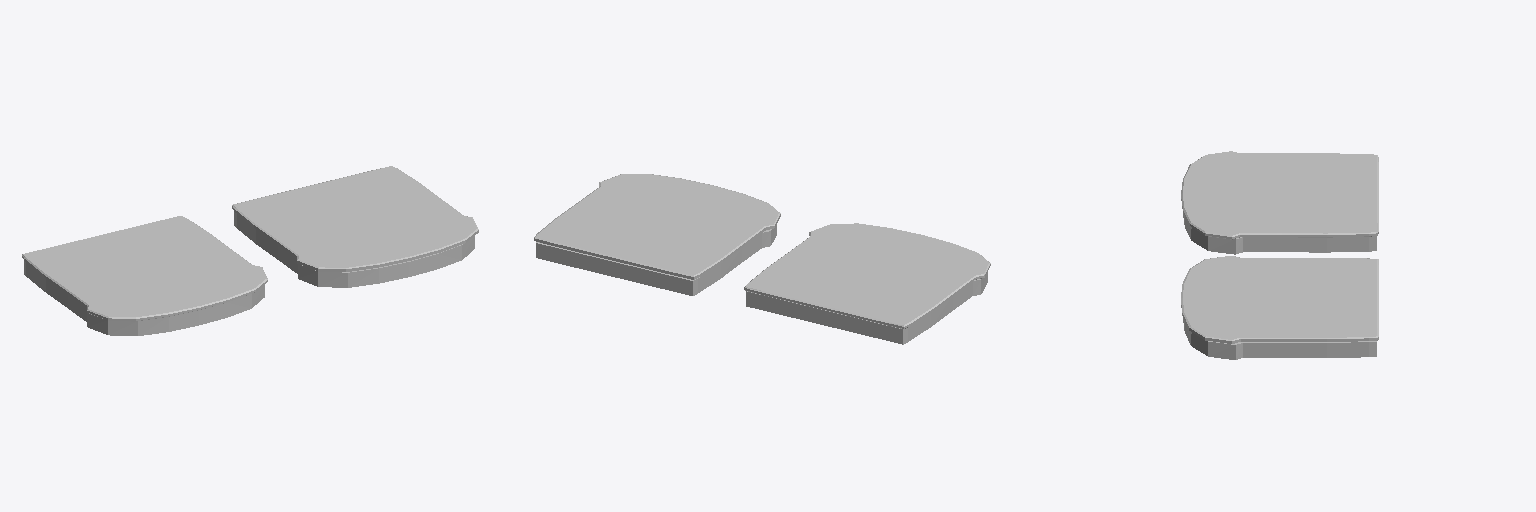
The model's file is Panes separados.obj.
3 renders of one model, left to right at view 1: azimuth 30°, elevation 25°; view 2: azimuth 150°, elevation 25°; view 3: azimuth 270°, elevation 25°, orthographic.
Parts seen in each view (by area): view 1: peanut_butter_and_jelly:Mesh polySurface4, polySurface3 peanut_butter_and_jelly:Mesh, peanut_butter_and_jelly:Mesh polySurface1, peanut_butter_and_jelly:Mesh polySurface2; view 2: peanut_butter_and_jelly:Mesh polySurface4, polySurface3 peanut_butter_and_jelly:Mesh, peanut_butter_and_jelly:Mesh polySurface1, peanut_butter_and_jelly:Mesh polySurface2; view 3: peanut_butter_and_jelly:Mesh polySurface4, polySurface3 peanut_butter_and_jelly:Mesh, peanut_butter_and_jelly:Mesh polySurface1, peanut_butter_and_jelly:Mesh polySurface2.
Boxes of the visible parts, <box> form: peanut_butter_and_jelly:Mesh polySurface4: <box>232,166,478,271</box>; polySurface3 peanut_butter_and_jelly:Mesh: <box>22,216,267,321</box>; peanut_butter_and_jelly:Mesh polySurface1: <box>234,212,474,287</box>; peanut_butter_and_jelly:Mesh polySurface2: <box>24,261,264,335</box>; peanut_butter_and_jelly:Mesh polySurface4: <box>534,174,780,279</box>; polySurface3 peanut_butter_and_jelly:Mesh: <box>744,223,990,328</box>; peanut_butter_and_jelly:Mesh polySurface1: <box>536,225,776,295</box>; peanut_butter_and_jelly:Mesh polySurface2: <box>746,272,987,344</box>; peanut_butter_and_jelly:Mesh polySurface4: <box>1181,256,1378,343</box>; polySurface3 peanut_butter_and_jelly:Mesh: <box>1181,151,1378,239</box>; peanut_butter_and_jelly:Mesh polySurface1: <box>1183,318,1376,359</box>; peanut_butter_and_jelly:Mesh polySurface2: <box>1183,213,1376,254</box>.
Bounding box in the file's own units: 2.47 × 0.1377 × 1.1.